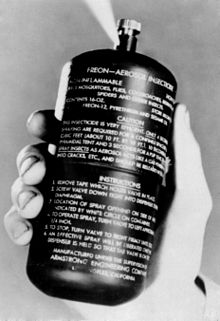Aerosol_cans: (23, 16, 181, 309)
